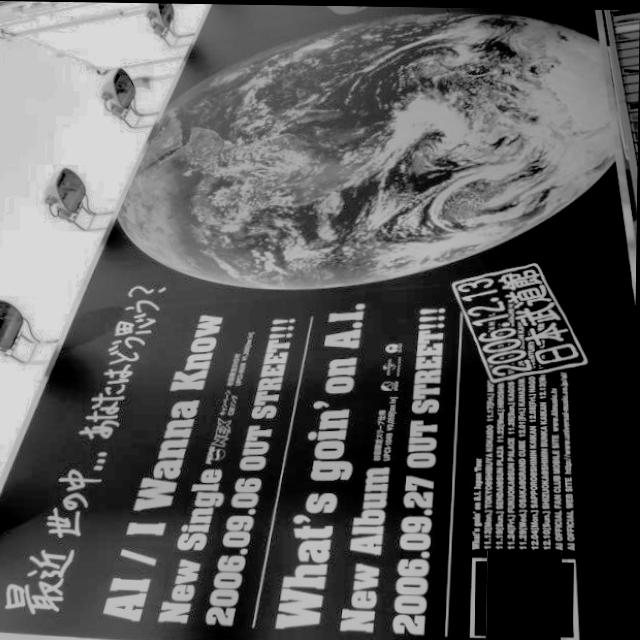qr_code: (483, 553, 570, 640)
